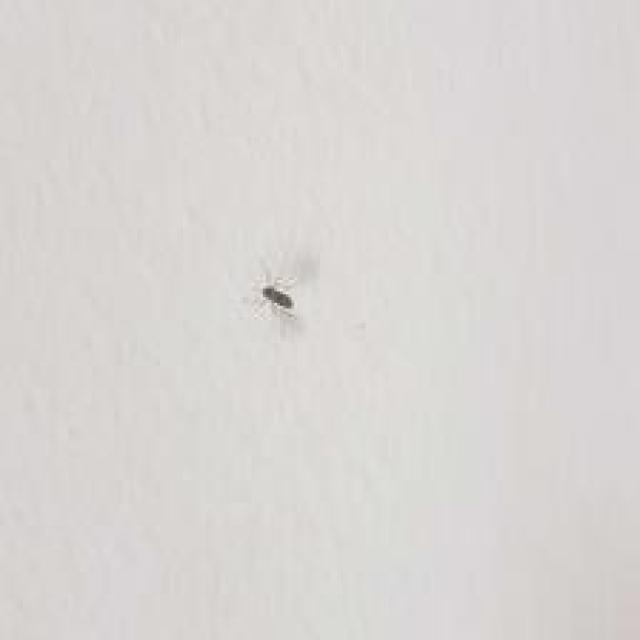Culex: (260, 284, 294, 313)
